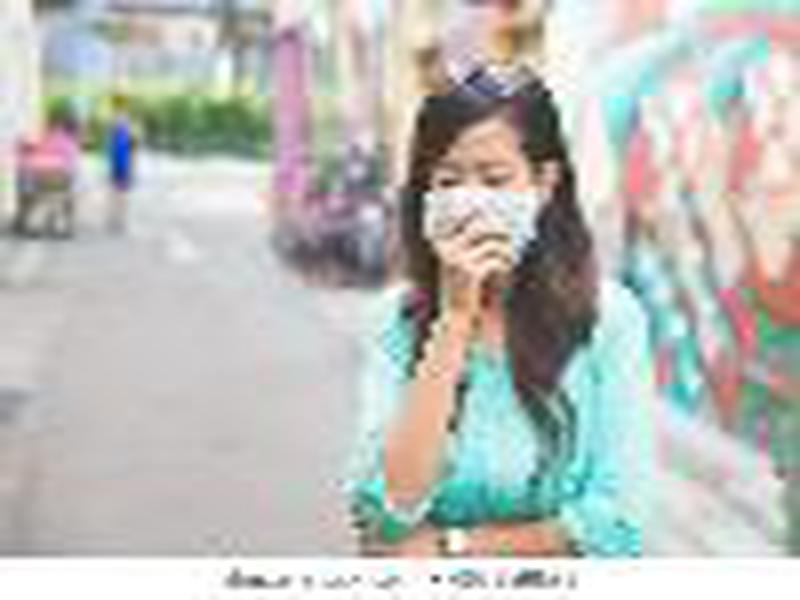with_mask: (422, 117, 547, 273)
